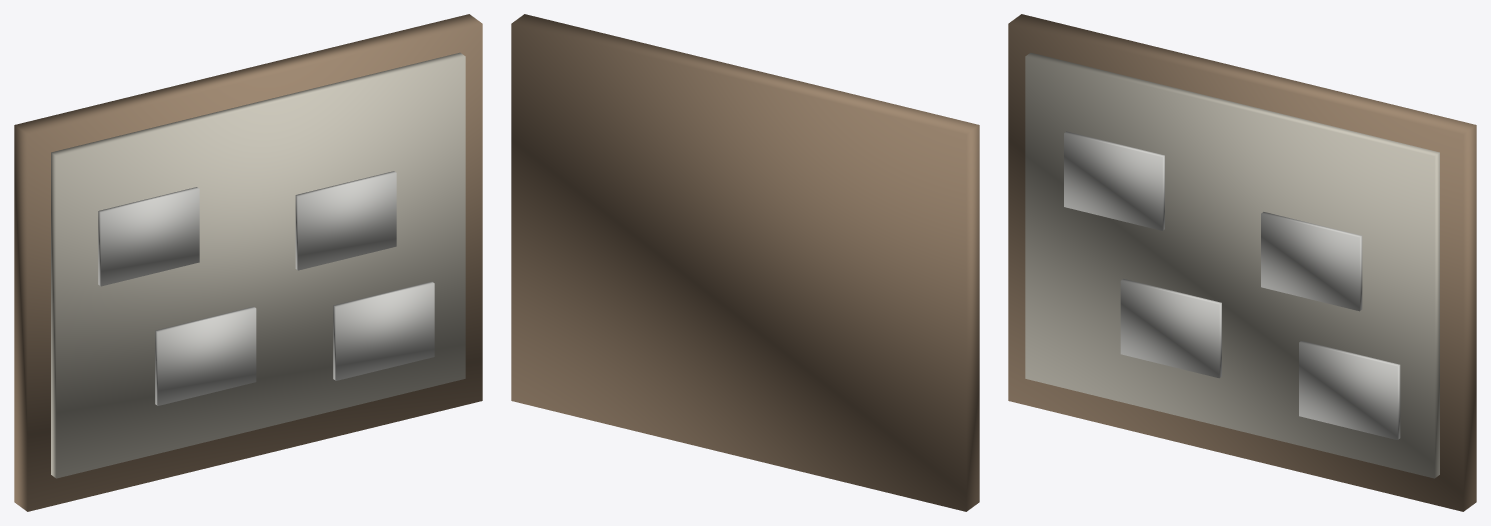
Rendered from cork_bulletin_board__tall.glb.
3 views of the same model, side by side, from view 1: azimuth 30°, elevation 25°; view 2: azimuth 150°, elevation 25°; view 3: azimuth 330°, elevation 25° (orthographic).
Visible parts, largest first — view 1: world; view 2: world; view 3: world.
Part boxes in pixels (x1,y1,x2,y2): world: (14, 14, 482, 511); world: (511, 14, 979, 511); world: (1008, 14, 1476, 511).
Size of the model in its own units: 1.2 by 0.9512 by 0.101.
